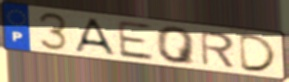3: (37, 11, 69, 53)
A: (72, 16, 119, 58)
D: (238, 33, 280, 74)
E: (115, 19, 156, 62)
Q: (155, 26, 198, 66)
R: (198, 30, 237, 70)
